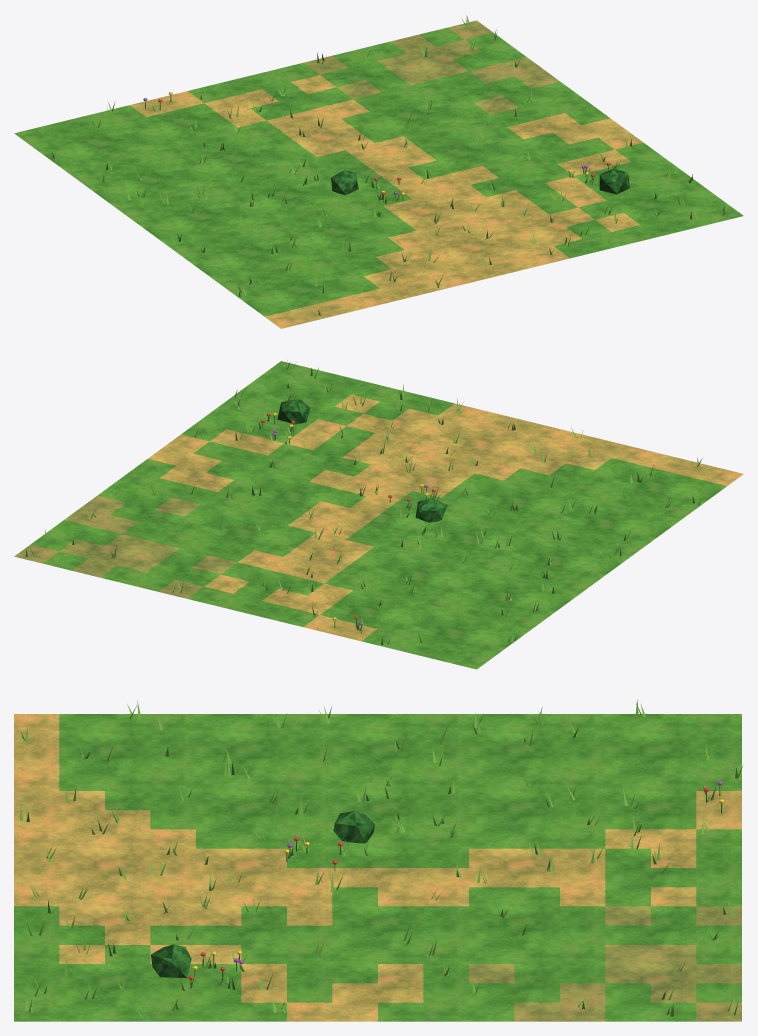
Rendered from chunk_9_7.glb.
The picture shows the model from 3 angles, top to bottom: view 1: azimuth 30°, elevation 25°; view 2: azimuth 150°, elevation 25°; view 3: azimuth 270°, elevation 25°; orthographic projection. The views are drawn at different scales.
Visible parts, largest first — view 1: chunk_9_7; view 2: chunk_9_7; view 3: chunk_9_7.
Part boxes in pixels (left/top/right/bottom): chunk_9_7: left=14, top=15, right=743, bottom=328; chunk_9_7: left=14, top=360, right=743, bottom=669; chunk_9_7: left=14, top=699, right=742, bottom=1021.
Bounding box in the file's own units: 16.1 × 0.8439 × 16.05.
9 materials, 5 textured.
